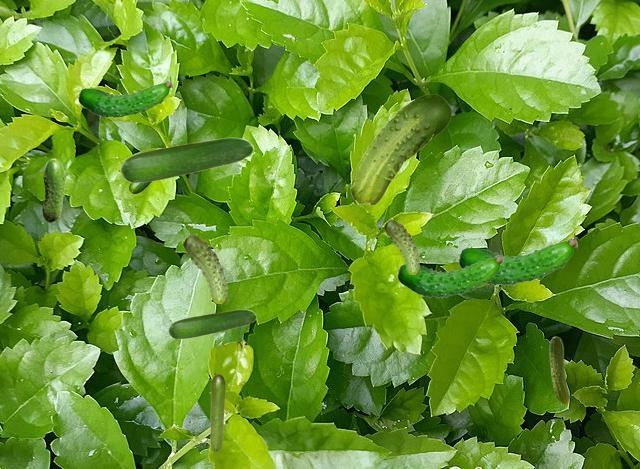cucumber: (350, 94, 450, 204), (457, 232, 576, 285), (120, 137, 252, 182), (396, 250, 502, 297), (77, 76, 171, 117), (183, 234, 227, 302), (168, 309, 255, 338), (384, 219, 419, 273), (42, 158, 64, 221), (549, 336, 568, 404), (210, 374, 224, 451), (129, 183, 150, 192)
